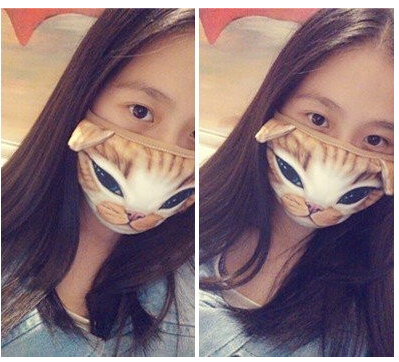face_mask: (70, 41, 224, 235), (269, 50, 398, 227)
